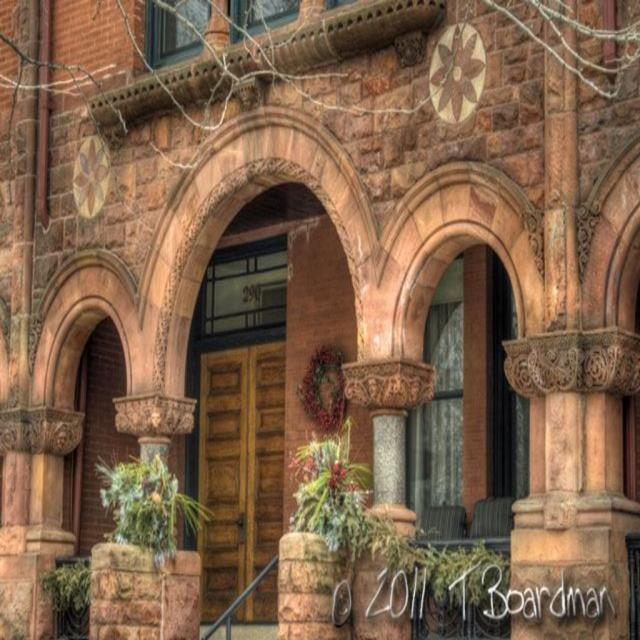door_local: (192, 346, 286, 628)
